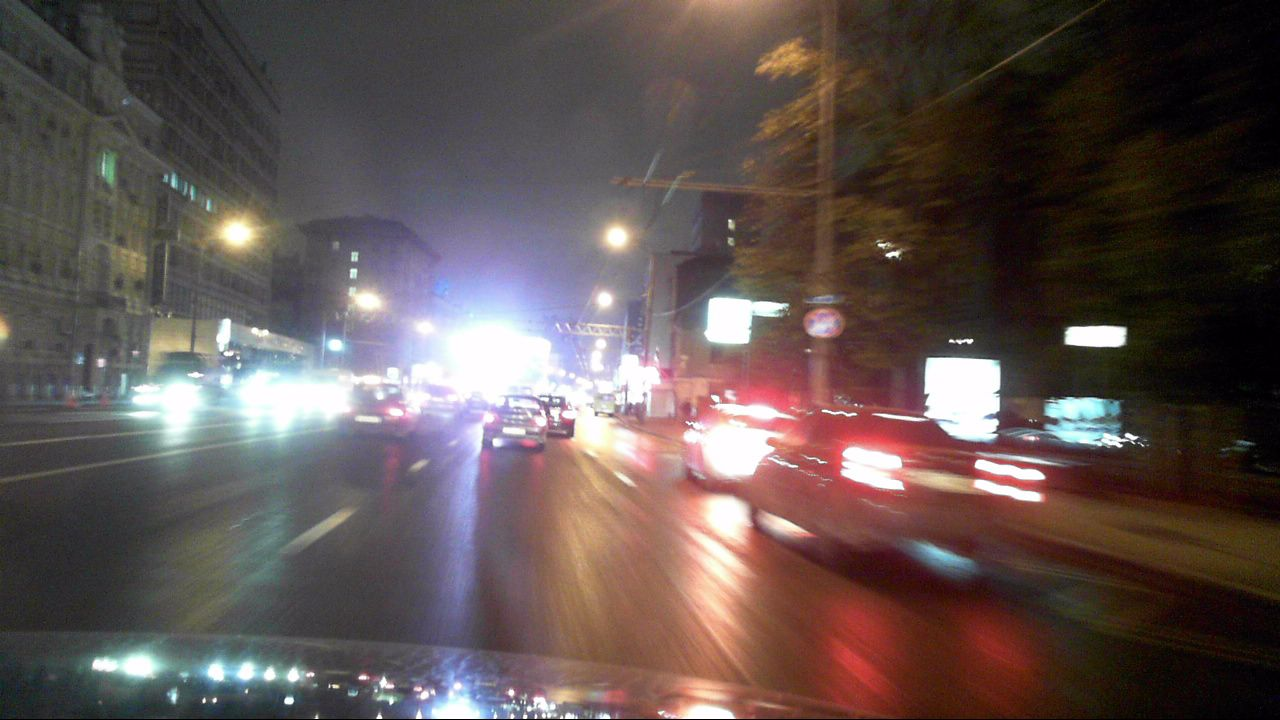No Parking: (804, 305, 840, 339)
